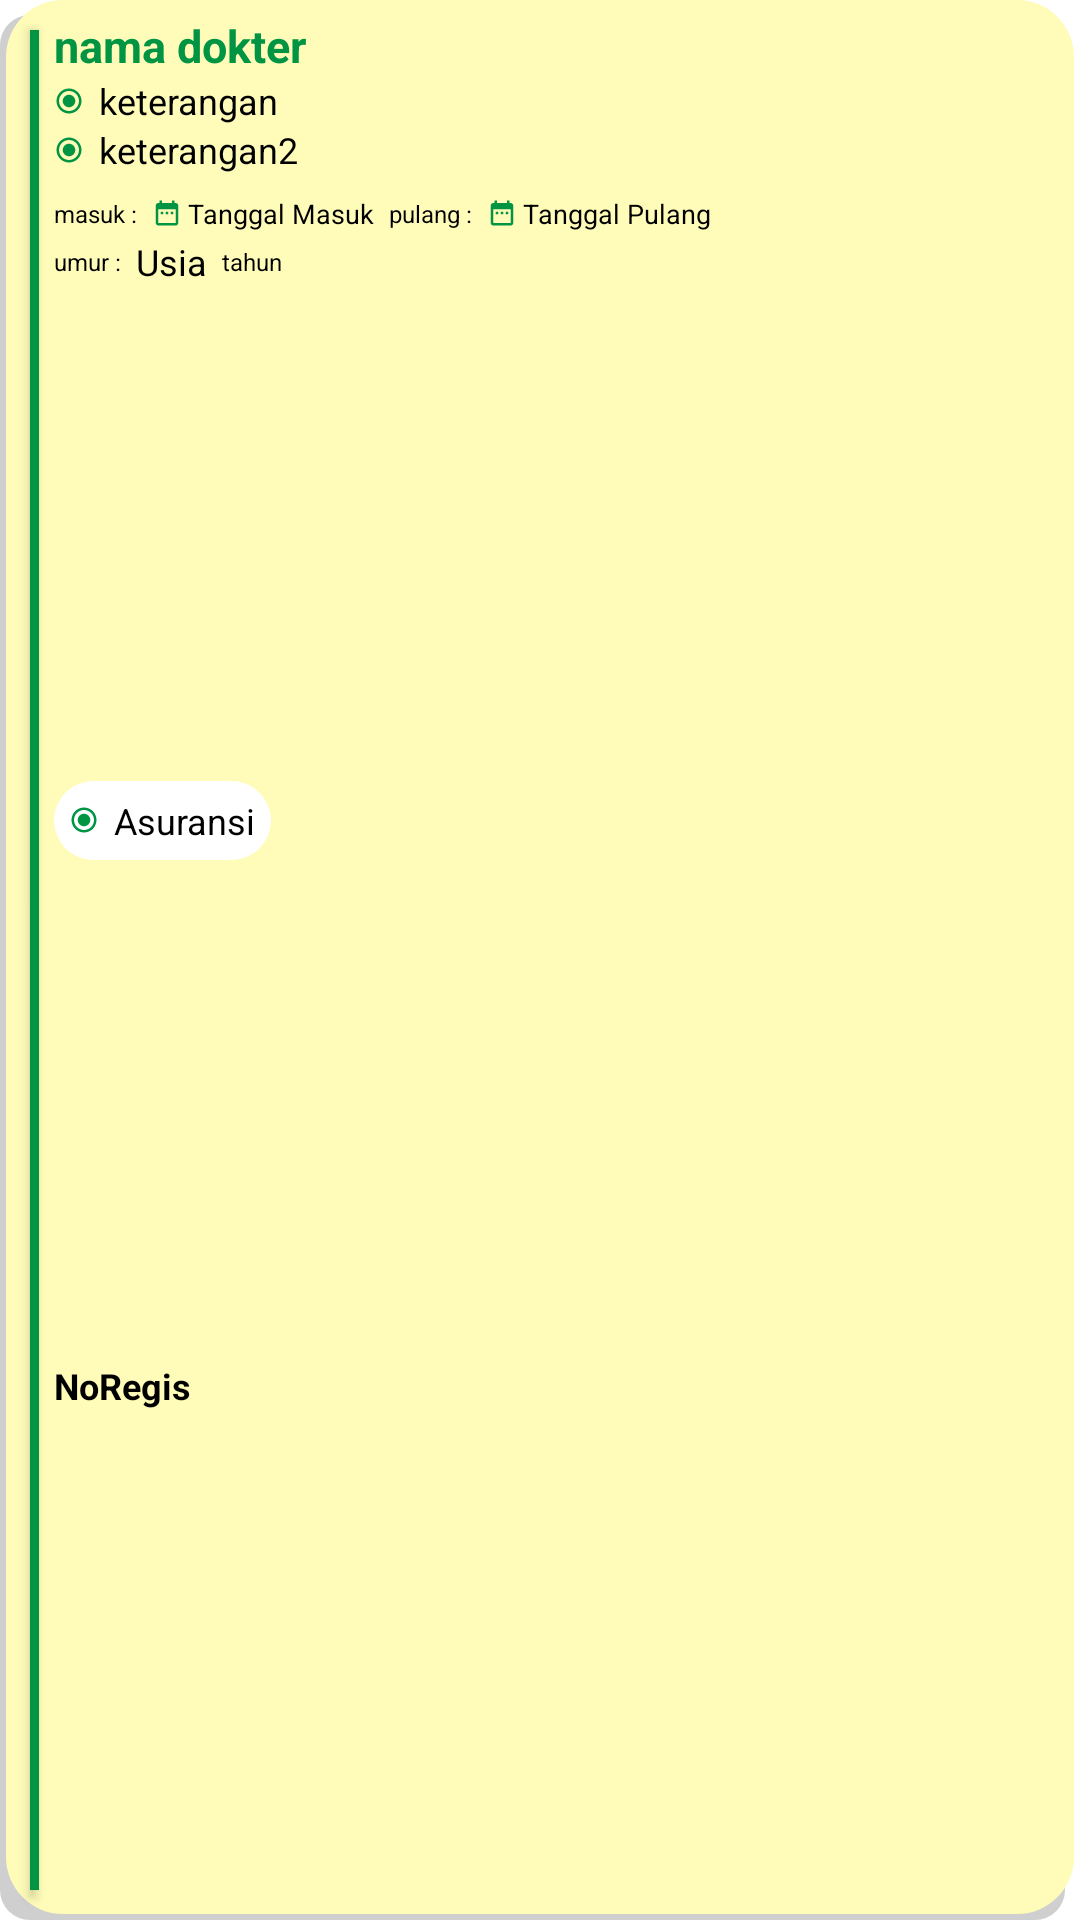

Point at icon controls on the screen. Image size 1080x1920, points as [x,y].
date range: [167,213], [502,213]
dot: [69,101], [69,150], [84,820]
